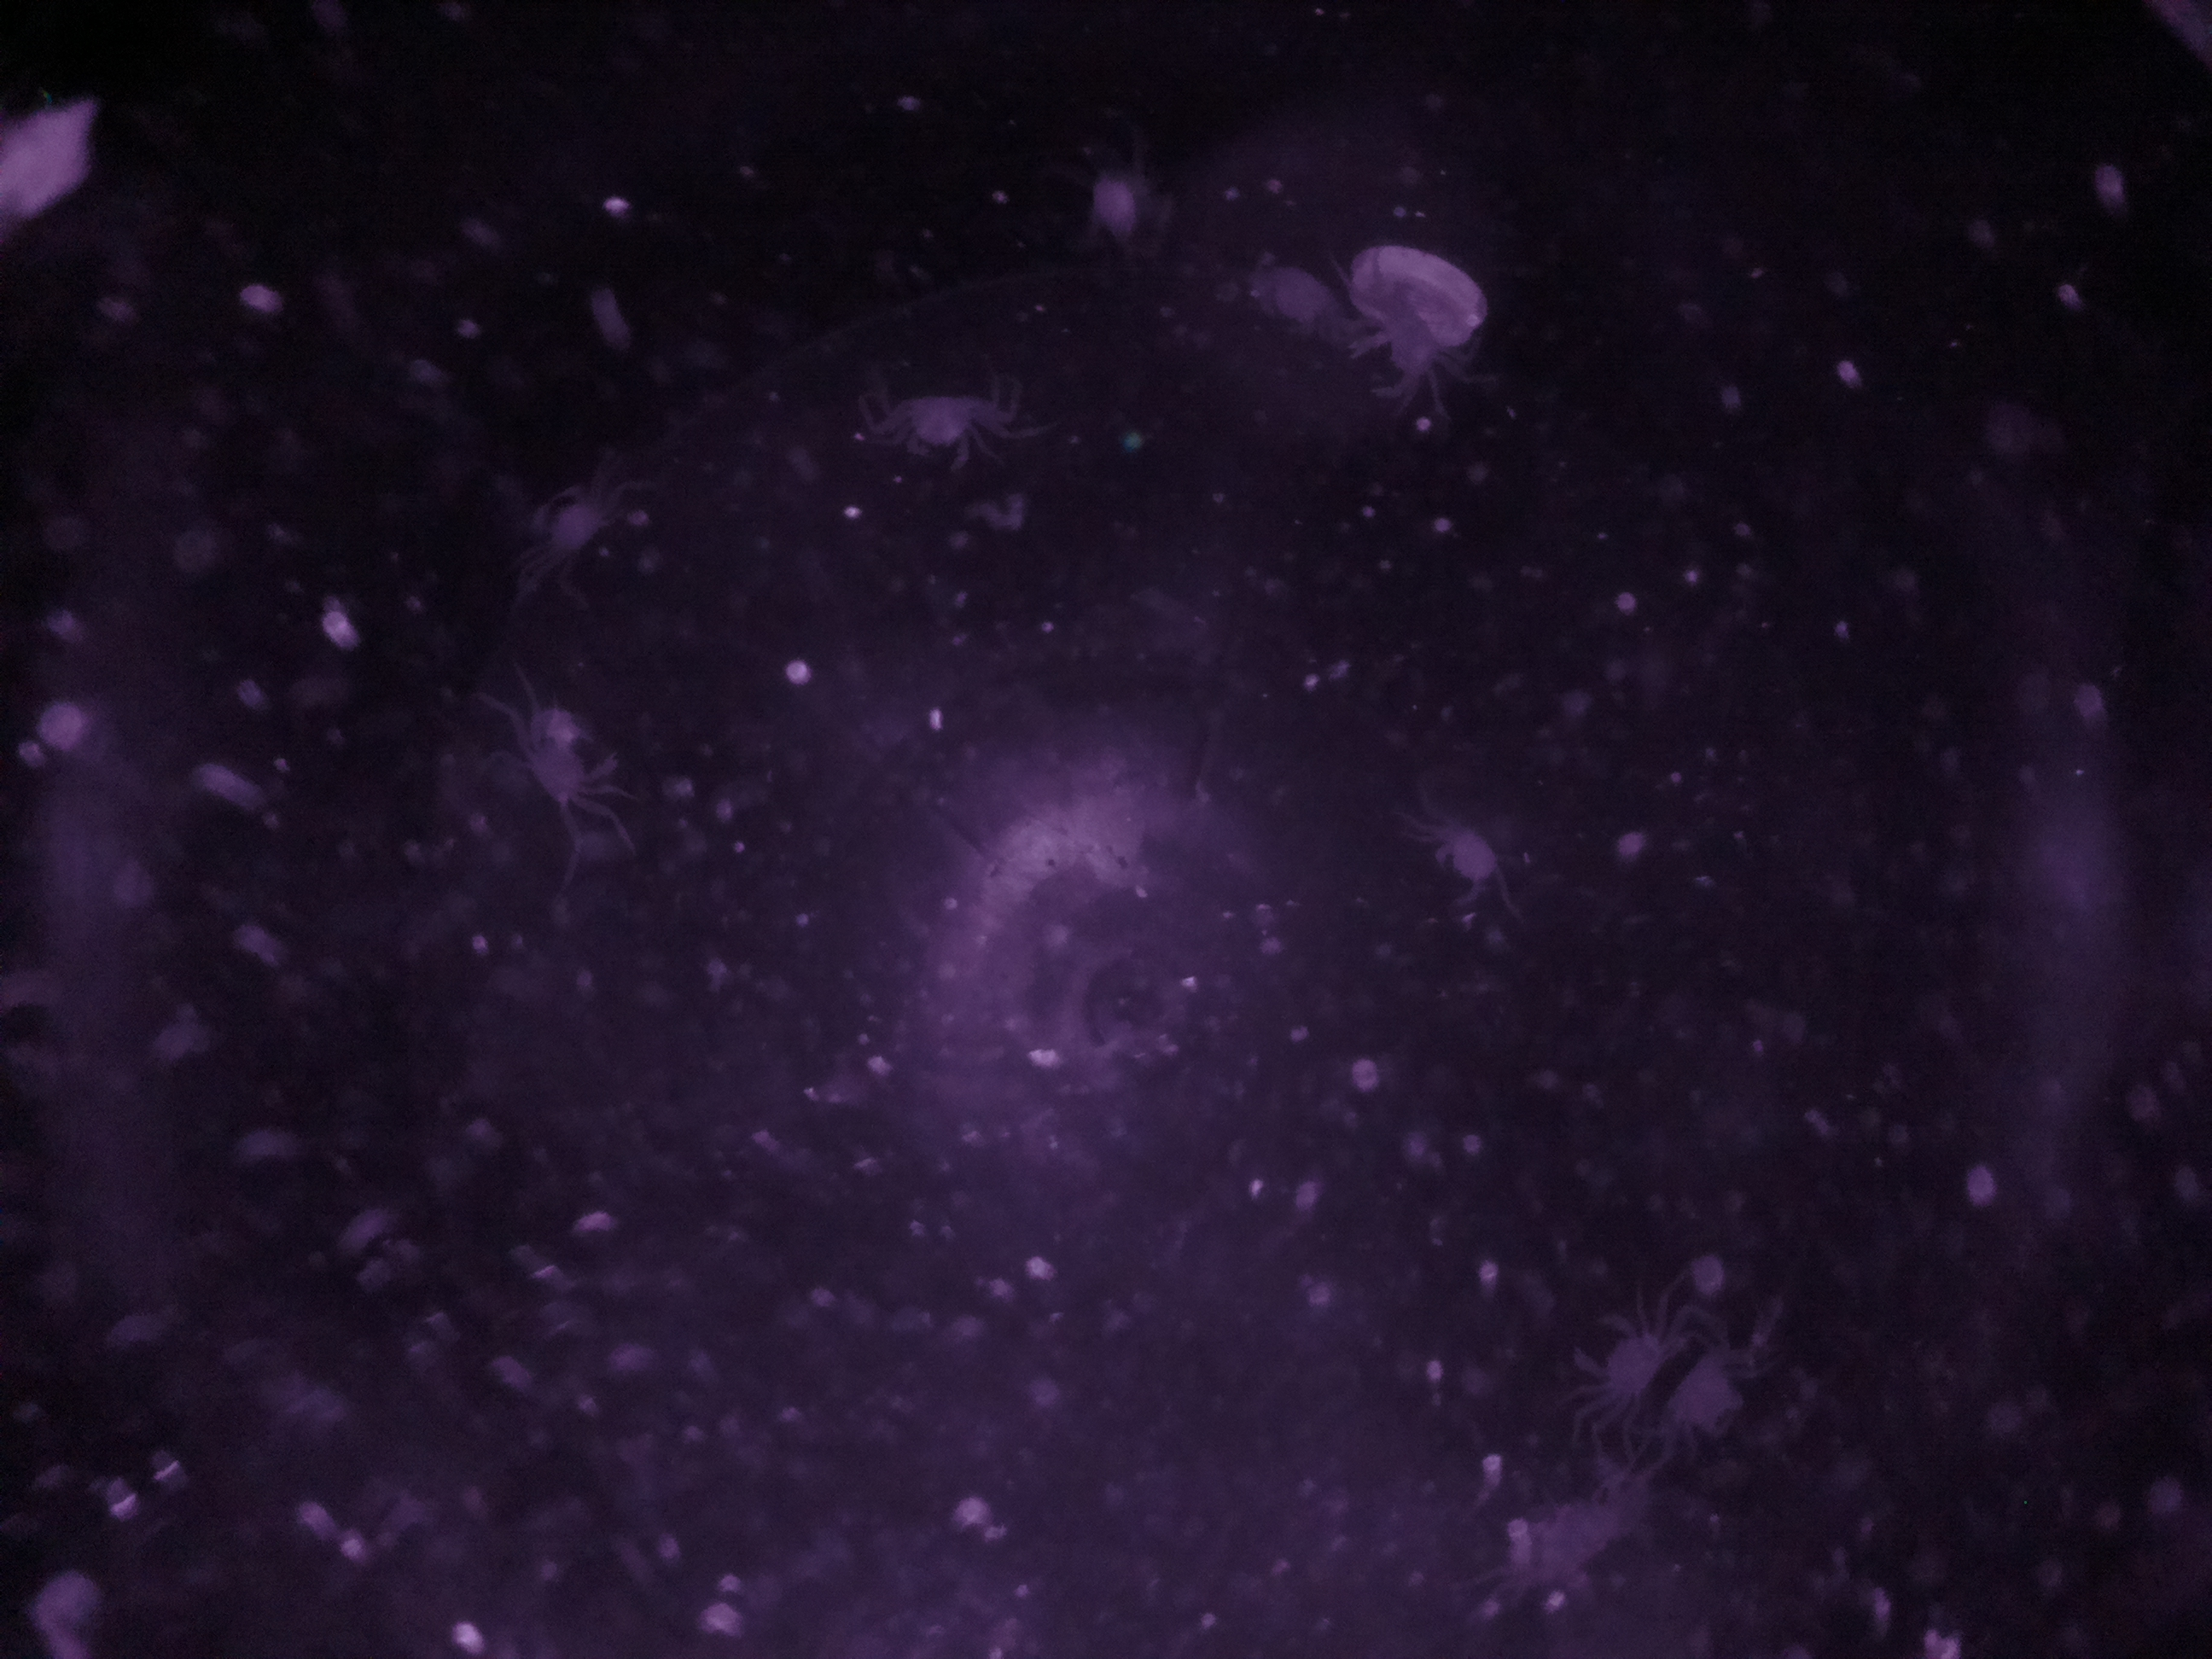Crab: (1334, 293, 1453, 410), (887, 373, 995, 481)
